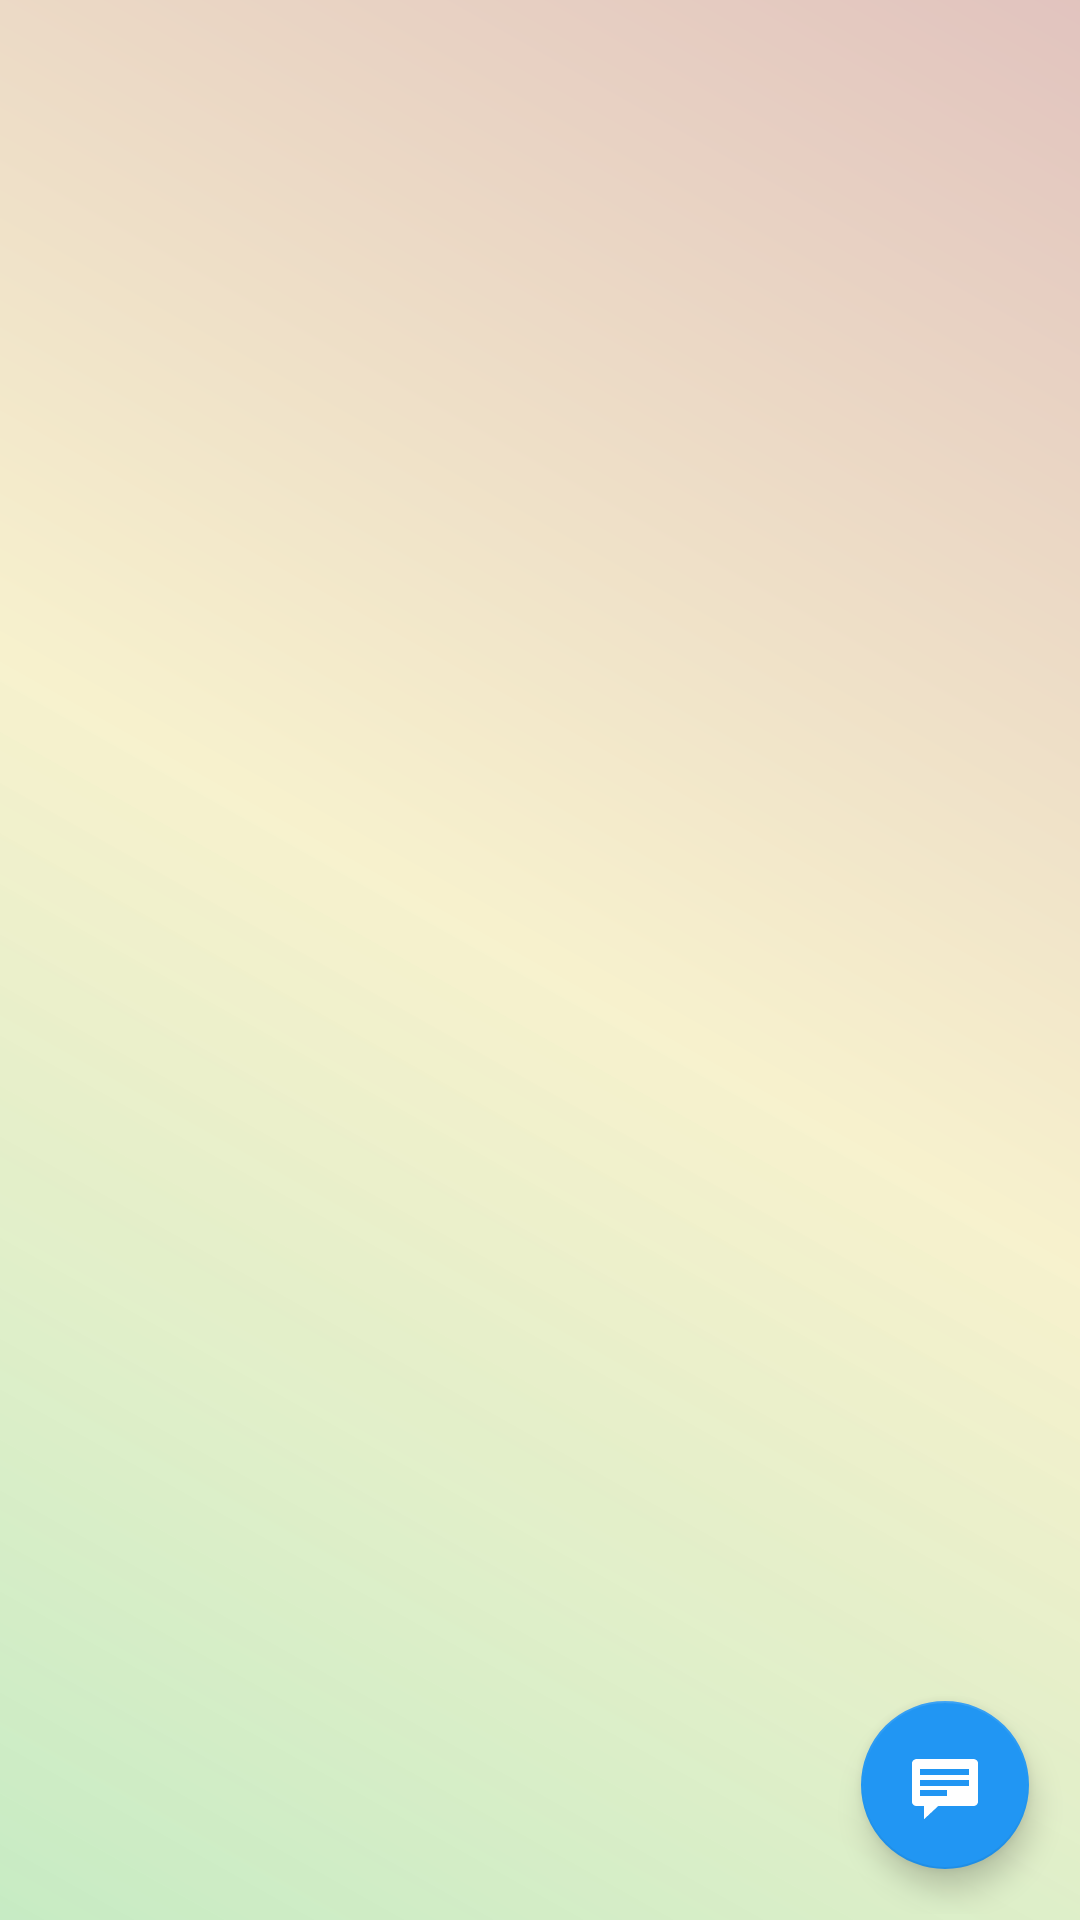

Where to tap for icons on this 1080 × 1920 app screen, as point (x, y):
chat: point (945, 1785)
